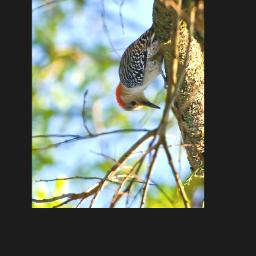Woodpecker: (103, 16, 174, 116)
